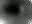person: (20, 6, 25, 17)
